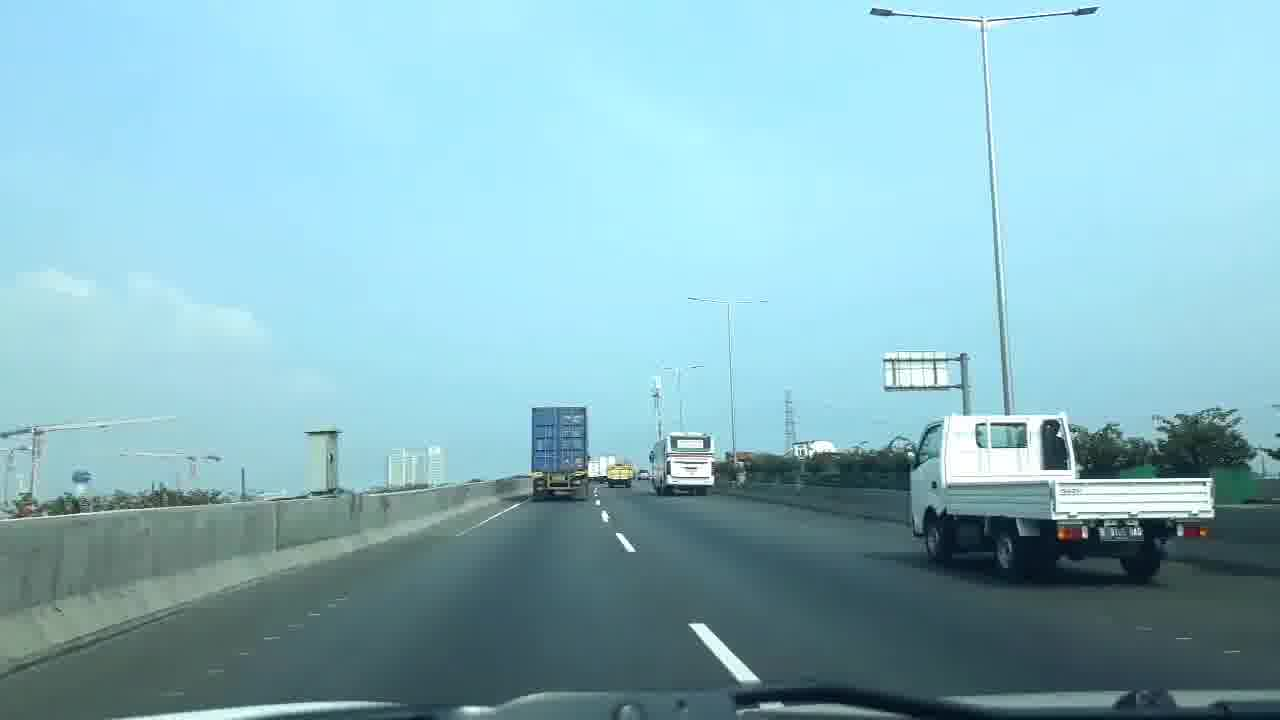plate_positive: (1099, 527, 1143, 542)
